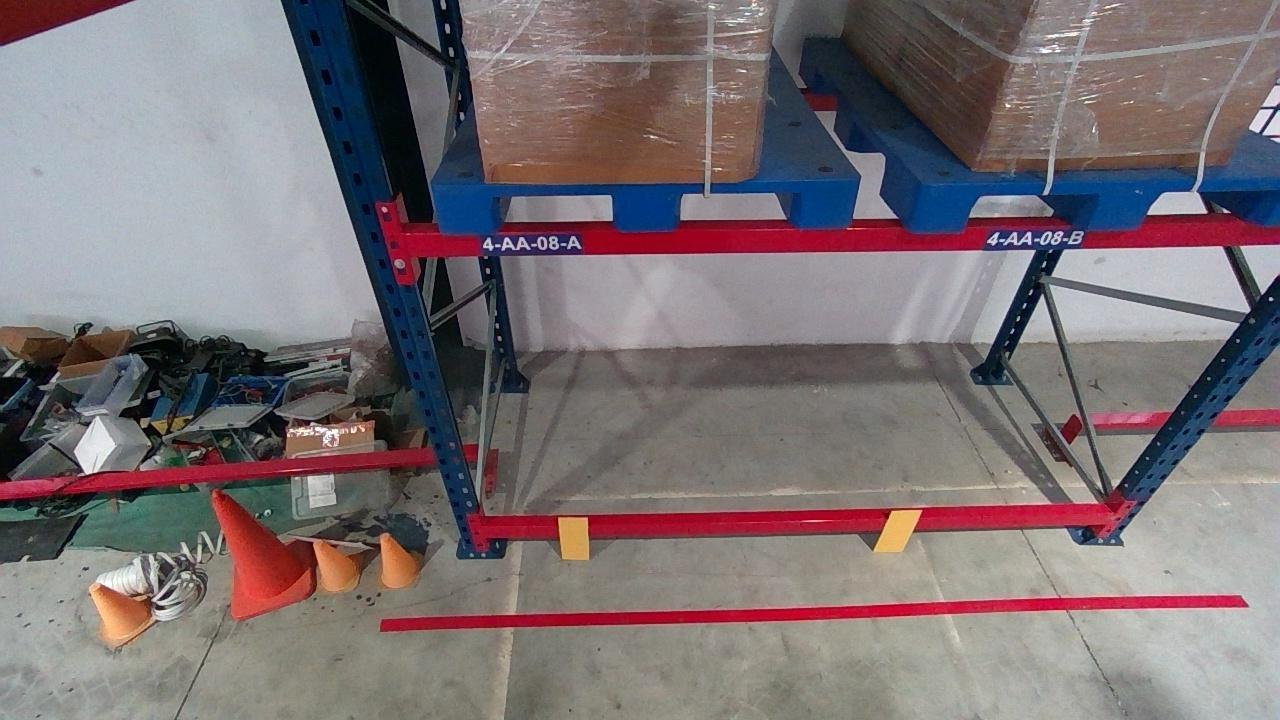h_rack: (407, 219, 1277, 255), (483, 510, 1115, 540)
orange_strip: (872, 510, 923, 551), (558, 518, 589, 559)
red_line: (376, 592, 1245, 631)
small_pallet: (432, 179, 863, 227), (908, 178, 1279, 228)
